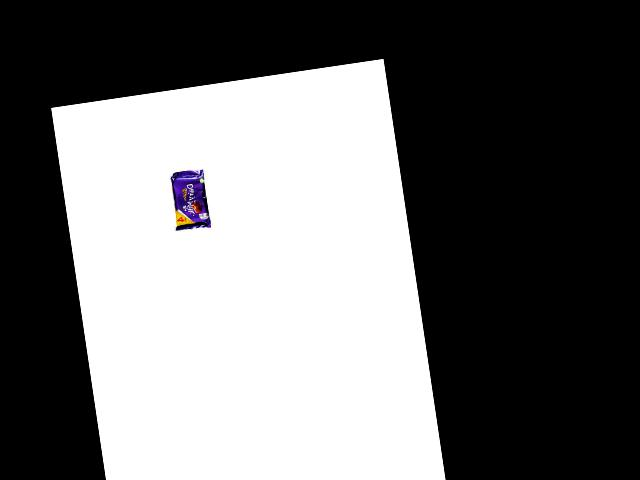chocolate: (167, 165, 217, 239)
